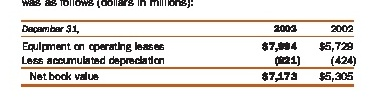table: (0, 0, 376, 105)
